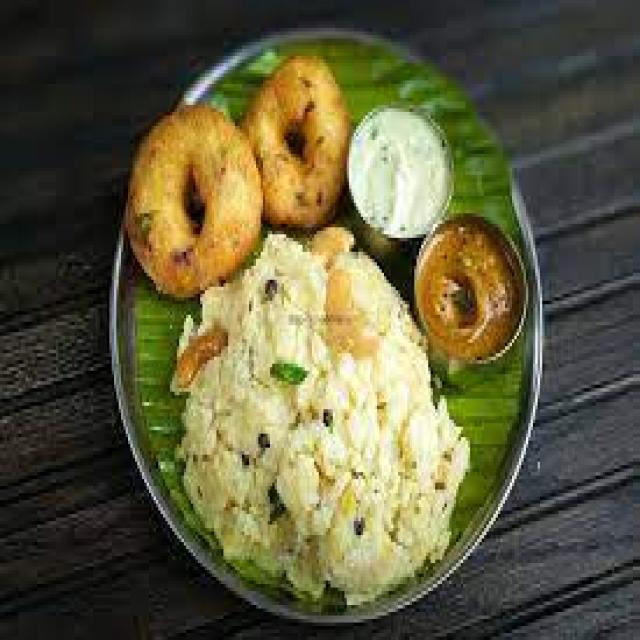PONGAL: (179, 226, 467, 603)
RED CHUTNEY: (419, 224, 522, 359)
VADA: (120, 52, 352, 303)
WHITE CHUTNEY: (349, 109, 450, 240)
